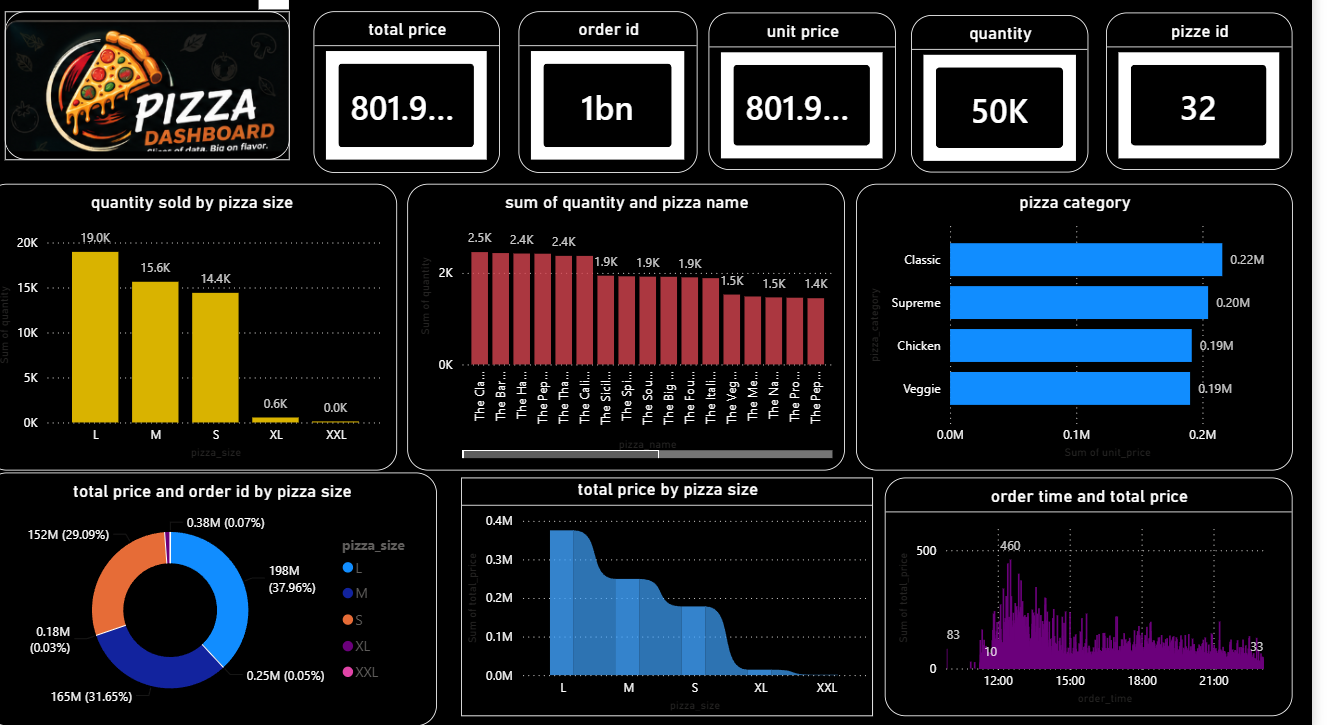

The dashboard page shown, as its layout file describes it:
{"tool":"powerbi","page":{"name":"Page 1","canvas":[1280,720],"ordinal":0},"visuals":[{"type":"clusteredColumnChart","title":" quantity sold by pizza size","fields":{"Y":["Sum(pizza_sales.quantity)"],"Category":["pizza_sales.pizza_size"]},"box":[0,192.1,396.6,277.2],"z":0},{"type":"clusteredBarChart","title":"pizza category","fields":{"Y":["Sum(pizza_sales.unit_price)"],"Category":["pizza_sales.pizza_category"]},"box":[839.8,192.1,421.3,277.2],"z":1000},{"type":"lineClusteredColumnComboChart","title":"sum of quantity and pizza name","fields":{"Category":["pizza_sales.pizza_name"],"Y":["Sum(pizza_sales.quantity)"]},"box":[406.2,192.1,422.6,277.2],"z":2000},{"type":"donutChart","title":" total price and  order id by pizza size","fields":{"Category":["pizza_sales.pizza_size"],"Y":["Sum(pizza_sales.total_price)","Sum(pizza_sales.order_id)"]},"box":[0,470.5,435.5,244.9],"z":3000},{"type":"ribbonChart","title":" total price by pizza size","fields":{"Y":["Sum(pizza_sales.total_price)"],"Category":["pizza_sales.pizza_size"]},"box":[458.3,474.8,397.9,230.5],"z":4000},{"type":"clusteredColumnChart","title":"  order time and total price","fields":{"Category":["pizza_sales.order_time"],"Y":["Sum(pizza_sales.total_price)"]},"box":[867.2,474.8,393.8,230.5],"z":5000},{"type":"cardVisual","title":"total price","fields":{"Data":["Sum(pizza_sales.unit_price)"]},"box":[316.1,25.3,179.8,155.6],"z":6000},{"type":"cardVisual","title":"quantity","fields":{"Data":["Sum(pizza_sales.quantity)"]},"box":[892.8,29,171.3,152],"z":7000},{"type":"cardVisual","title":"pizze id","fields":{"Data":["Count(pizza_sales.pizza_ingredients)"]},"box":[1081,26.5,179.8,152],"z":8000},{"type":"cardVisual","title":"order id","fields":{"Data":["Sum(pizza_sales.pizza_id)"]},"box":[513.9,25.3,172.5,155.6],"z":9000},{"type":"cardVisual","title":"unit price","fields":{"Data":["Sum(pizza_sales.unit_price)"]},"box":[697.3,26.5,181,152],"z":10000},{"type":"image","box":[18.1,25.3,275.1,143.6],"z":10001}]}

Visuals, with their boxes in screenshot pixels (x1, y1, x2, y2):
" quantity sold by pizza size" clusteredColumnChart: locate(10, 181, 420, 467)
"pizza category" clusteredBarChart: locate(877, 181, 1312, 467)
"sum of quantity and pizza name" lineClusteredColumnComboChart: locate(430, 181, 866, 467)
" total price and  order id by pizza size" donutChart: locate(10, 468, 460, 721)
" total price by pizza size" ribbonChart: locate(483, 473, 894, 710)
"  order time and total price" clusteredColumnChart: locate(905, 473, 1312, 710)
"total price" cardVisual: locate(337, 9, 522, 169)
"quantity" cardVisual: locate(932, 13, 1108, 169)
"pizze id" cardVisual: locate(1126, 10, 1311, 167)
"order id" cardVisual: locate(541, 9, 719, 169)
"unit price" cardVisual: locate(730, 10, 917, 167)
image: locate(29, 9, 313, 157)
